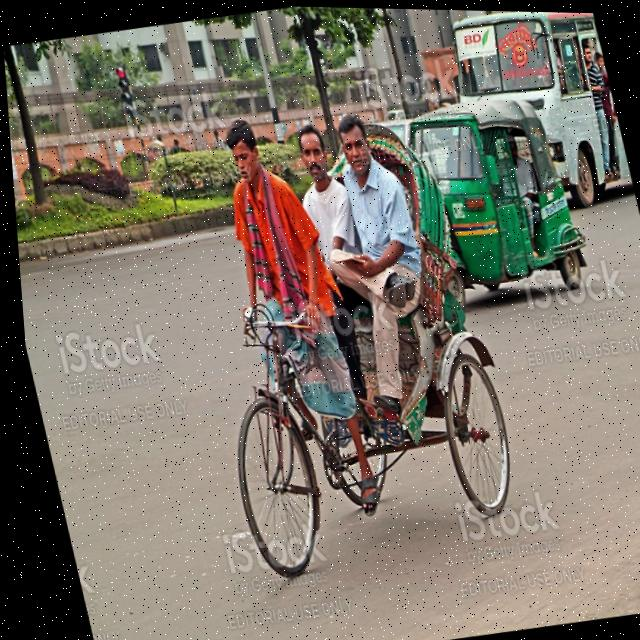rikshaw: (144, 124, 527, 640)
